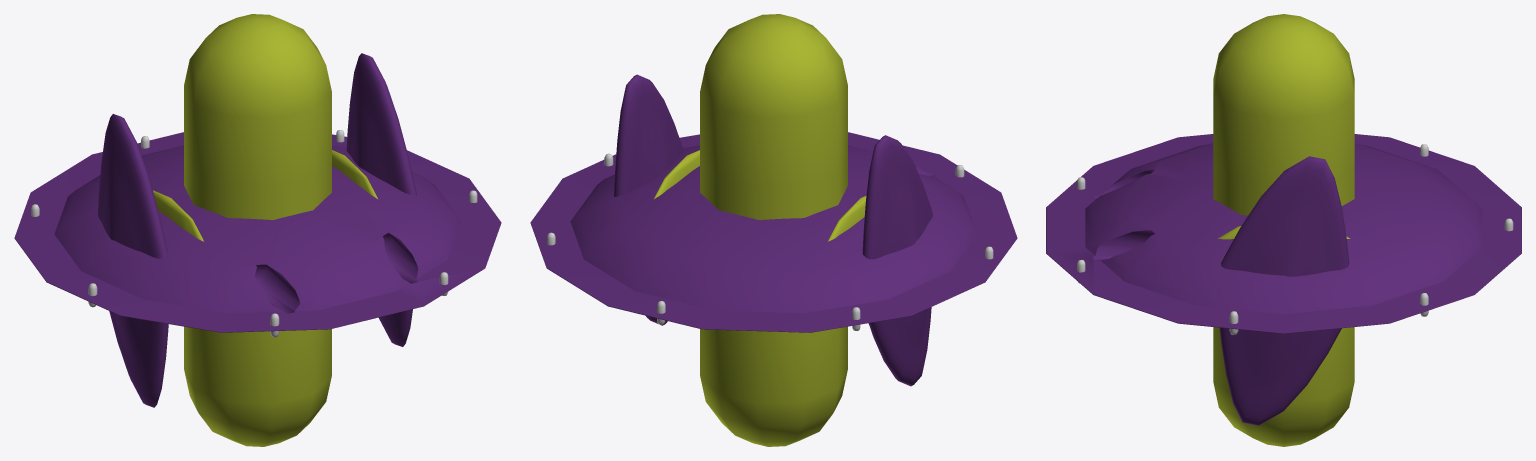
File: Spaceship_enemy.fbx
3 renders of one model, left to right at view 1: azimuth 30°, elevation 25°; view 2: azimuth 150°, elevation 25°; view 3: azimuth 270°, elevation 25°, orthographic.
Parts seen in each view (by area): view 1: spaceship, lights; view 2: spaceship, lights; view 3: spaceship, lights.
Part boxes in pixels (bbox=[...]): spaceship: bbox=[14, 14, 501, 446]; lights: bbox=[31, 130, 477, 337]; spaceship: bbox=[530, 14, 1017, 446]; lights: bbox=[547, 153, 993, 330]; spaceship: bbox=[1046, 14, 1521, 446]; lights: bbox=[1077, 144, 1513, 335].
Bounding box in the file's own units: 340 × 323 × 332.
